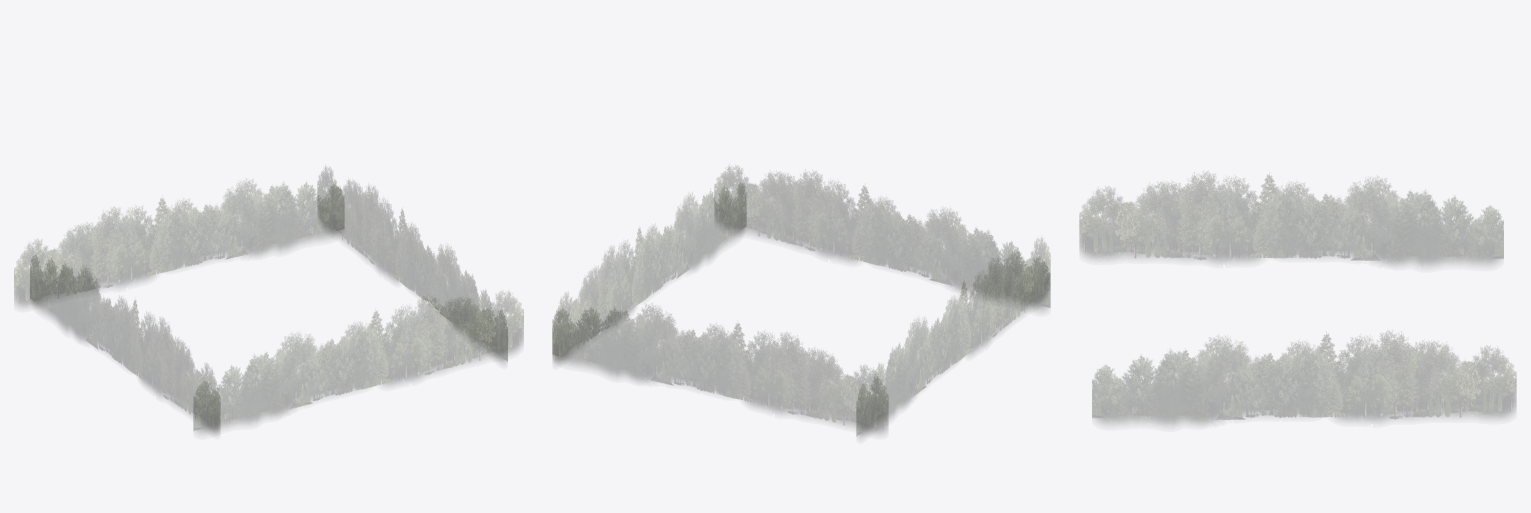
File: TREES.glb
3 renders of one model, left to right at view 1: azimuth 30°, elevation 25°; view 2: azimuth 150°, elevation 25°; view 3: azimuth 270°, elevation 25°, orthographic. The views are drawn at different scales.
Visible parts, largest first — view 1: tree panorama.002, tree panorama, tree panorama.003, tree panorama.001; view 2: tree panorama, tree panorama.002, tree panorama.003, tree panorama.001; view 3: tree panorama.001, tree panorama.003.
Boxes of the visible parts, box(x1,y1,x2,y2) form: tree panorama.002: box(193, 292, 523, 433); tree panorama: box(14, 180, 343, 306); tree panorama.003: box(30, 256, 220, 433); tree panorama.001: box(317, 167, 507, 362); tree panorama: box(552, 305, 888, 433); tree panorama.002: box(714, 166, 1050, 310); tree panorama.003: box(856, 238, 1050, 437); tree panorama.001: box(552, 184, 745, 363); tree panorama.001: box(1092, 331, 1516, 424); tree panorama.003: box(1079, 172, 1503, 265).
Size of the model in its own units: 38.05 by 28.79 by 38.05.
1 material, 1 textured.
